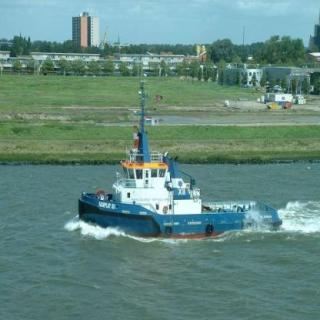Tug Boat: (83, 124, 271, 239)
